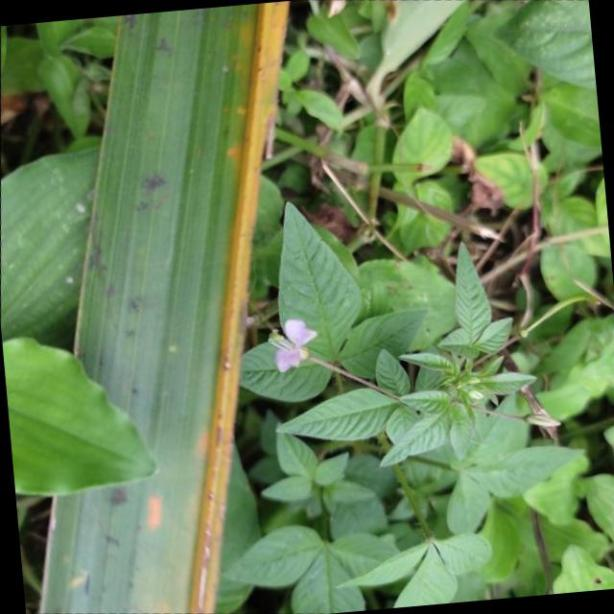Megnesium: (38, 0, 286, 614)
